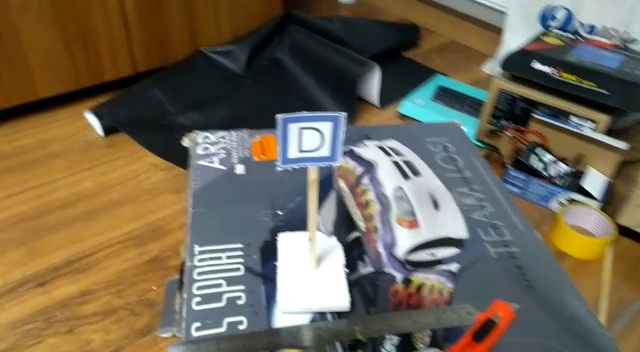durak: (284, 115, 342, 166)
